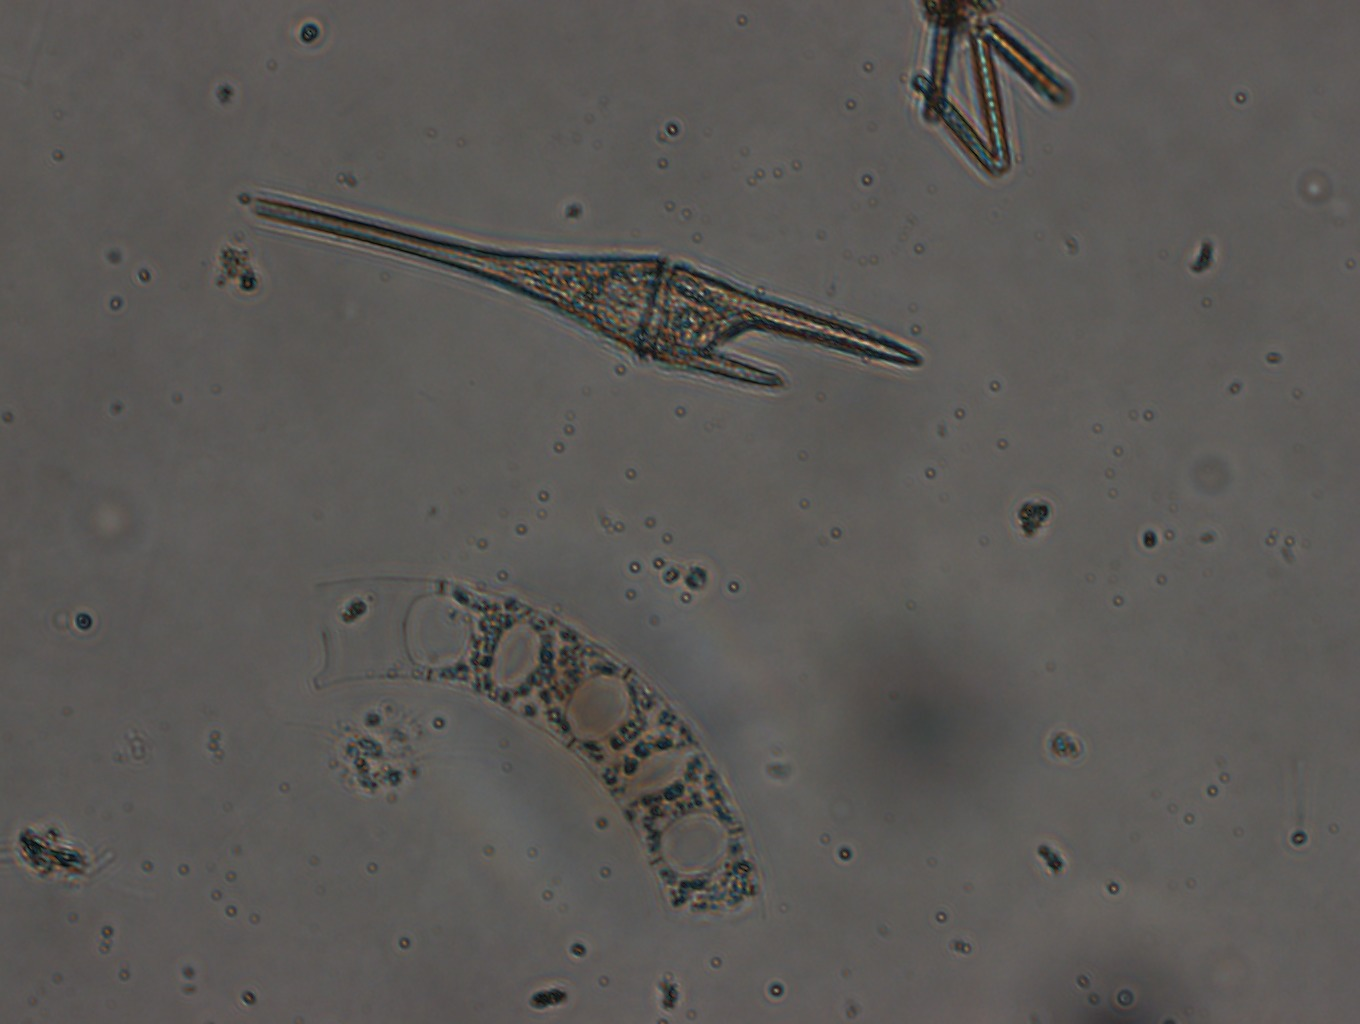ceratium furca: (245, 189, 924, 393)
eucampia: (307, 577, 767, 927)
thalassionema nitzschioides: (911, 18, 1068, 175)
